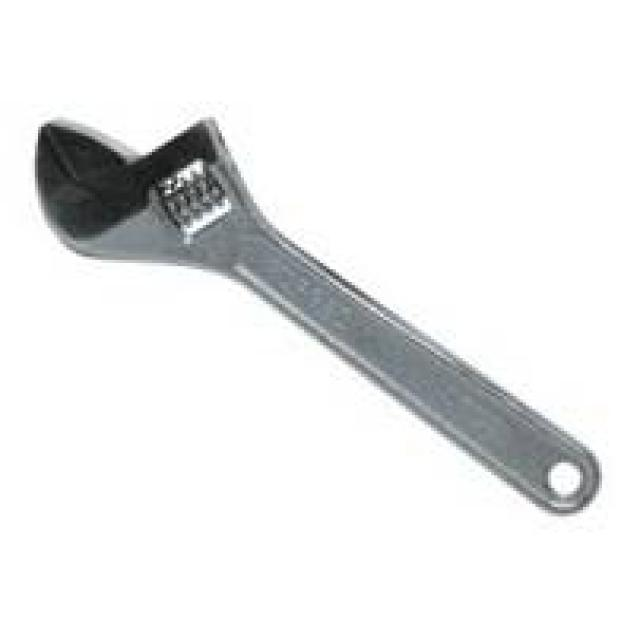wrench: (32, 117, 602, 520)
